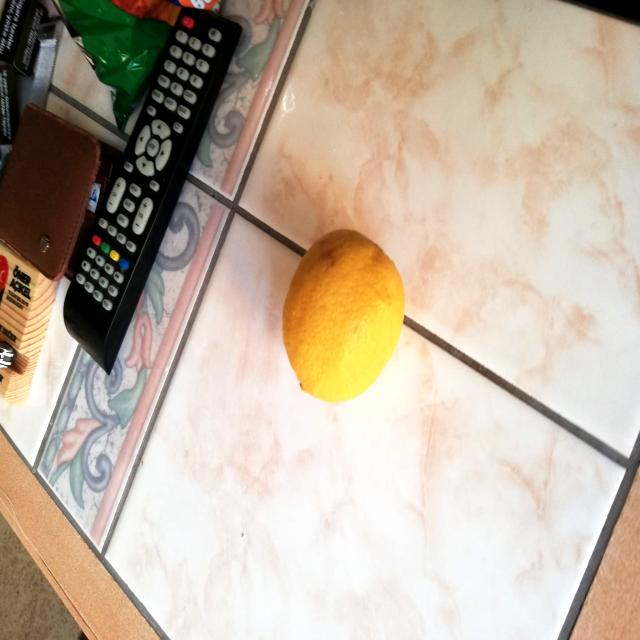lemon: (277, 224, 411, 408)
